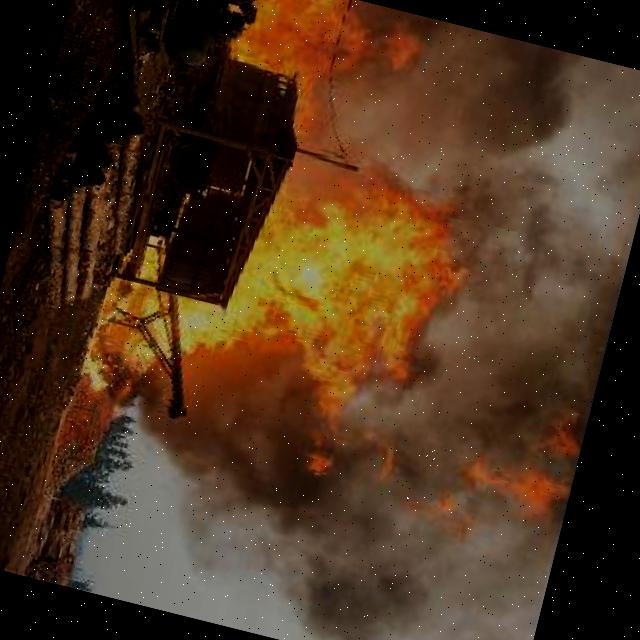fire: (102, 128, 486, 525), (186, 0, 455, 170), (83, 278, 136, 393)
